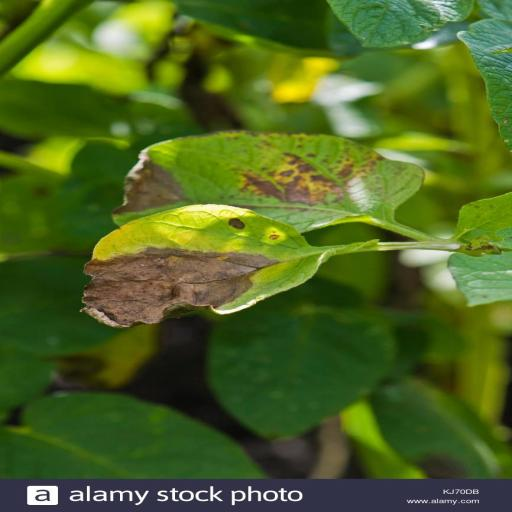Early Blight: (110, 122, 436, 236), (69, 202, 337, 332)
